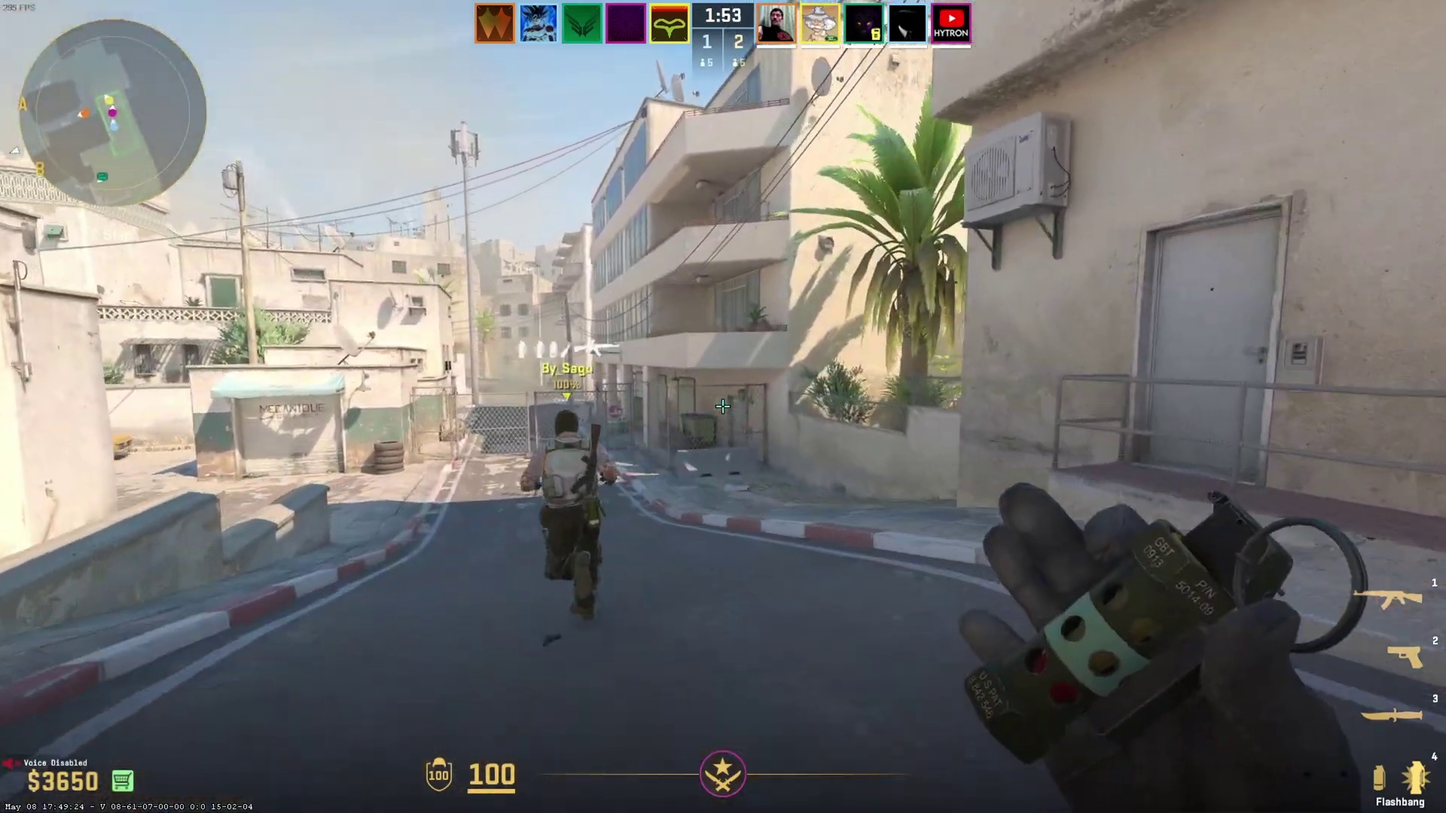Terrorist: (537, 410, 603, 621)
